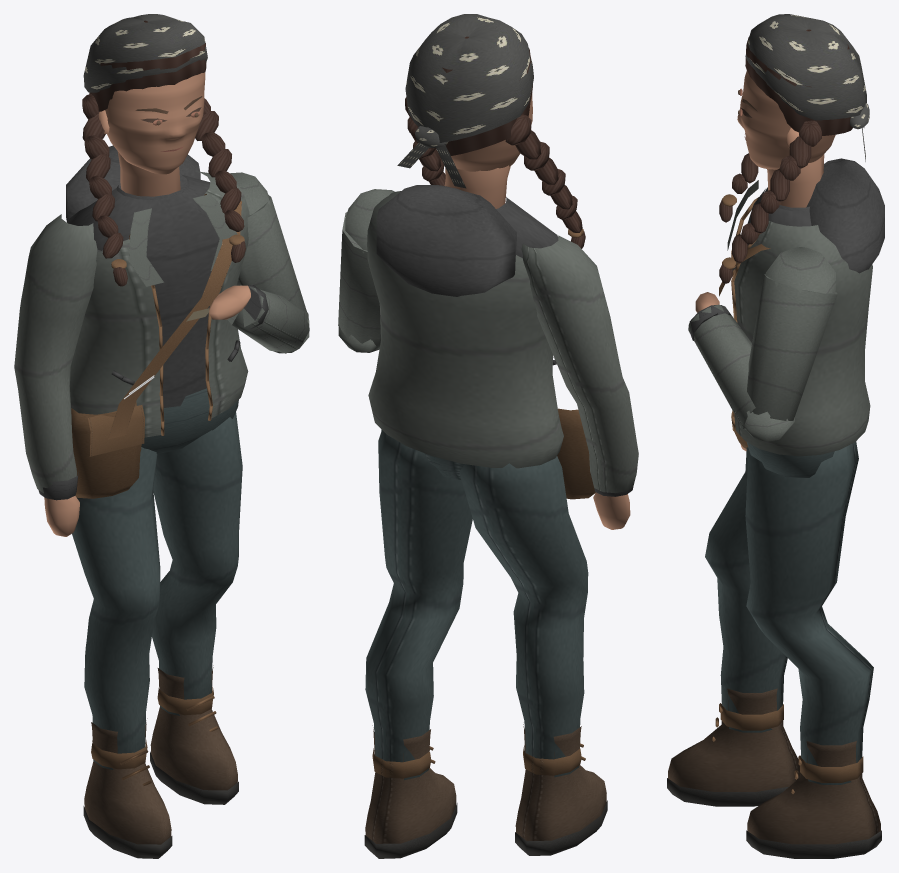
File: HERO-01_tais-standing.glb
3 views of the same model, side by side, from view 1: azimuth 30°, elevation 25°; view 2: azimuth 150°, elevation 25°; view 3: azimuth 270°, elevation 25° (orthographic). The views are drawn at different scales.
Parts seen in each view (by area): view 1: tais · metal; view 2: tais · metal; view 3: tais · metal.
Boxes of the visible parts, box(x1,y1,x2,y2) form: tais · metal: box(14, 14, 309, 858); tais · metal: box(338, 14, 638, 858); tais · metal: box(667, 14, 884, 858).
Size of the model in its own units: 0.6051 by 1.62 by 0.4014.
3 materials, 2 textured.
